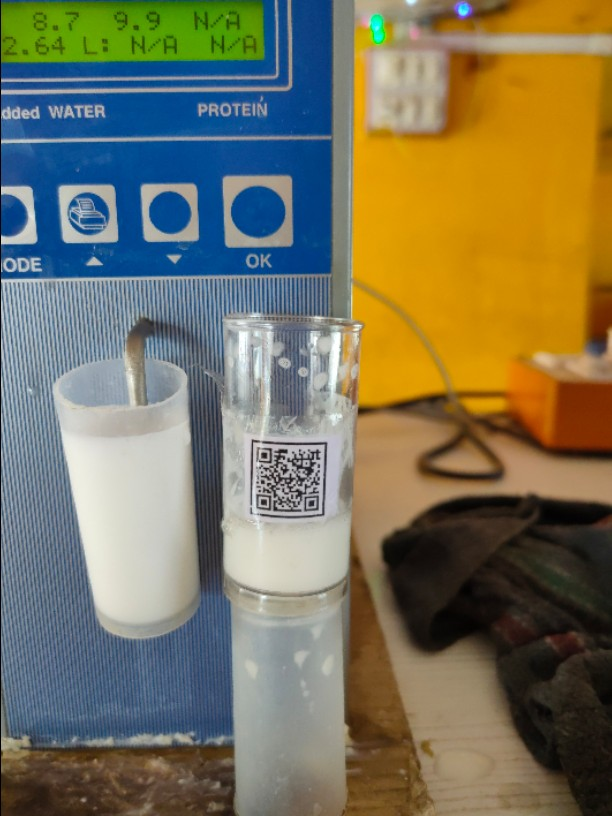qr: (238, 435, 338, 531)
